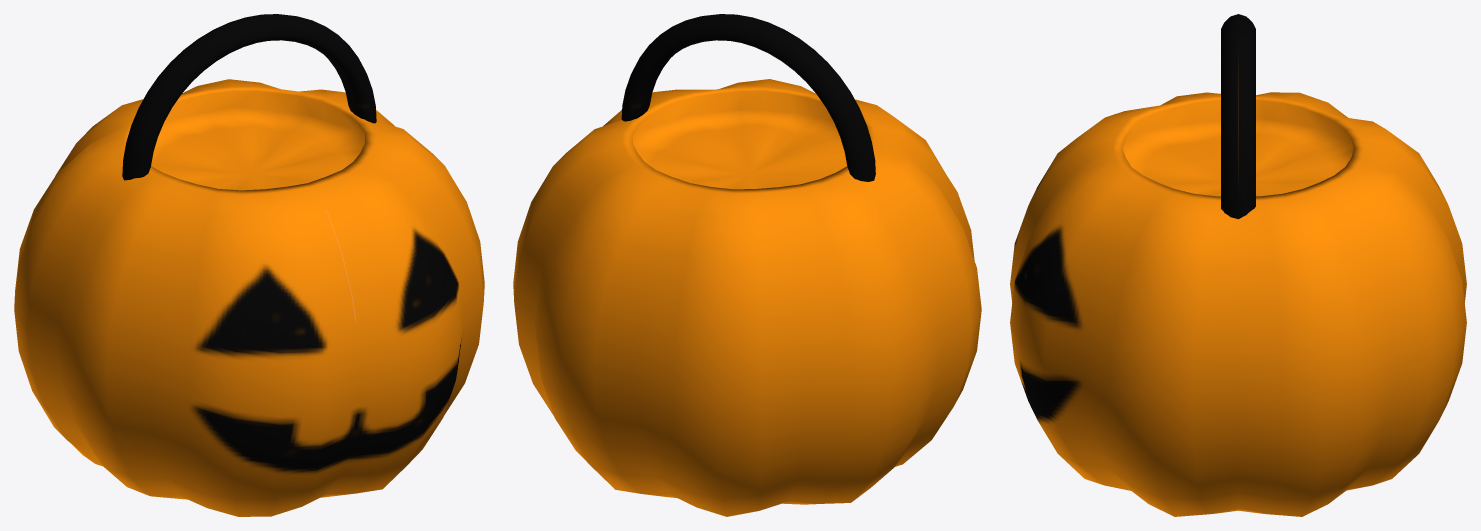
Rendered from Bucket_1.fbx.
3 renders of one model, left to right at view 1: azimuth 30°, elevation 25°; view 2: azimuth 150°, elevation 25°; view 3: azimuth 270°, elevation 25°, orthographic.
Parts seen in each view (by area): view 1: Bucket_1; view 2: Bucket_1; view 3: Bucket_1.
Boxes of the visible parts, x1,y1,x2,y2 form: Bucket_1: (14, 14, 484, 516); Bucket_1: (513, 14, 981, 516); Bucket_1: (1010, 14, 1466, 516).
Bounding box in the file's own units: 194 × 205 × 194.
1 material, 1 textured.
